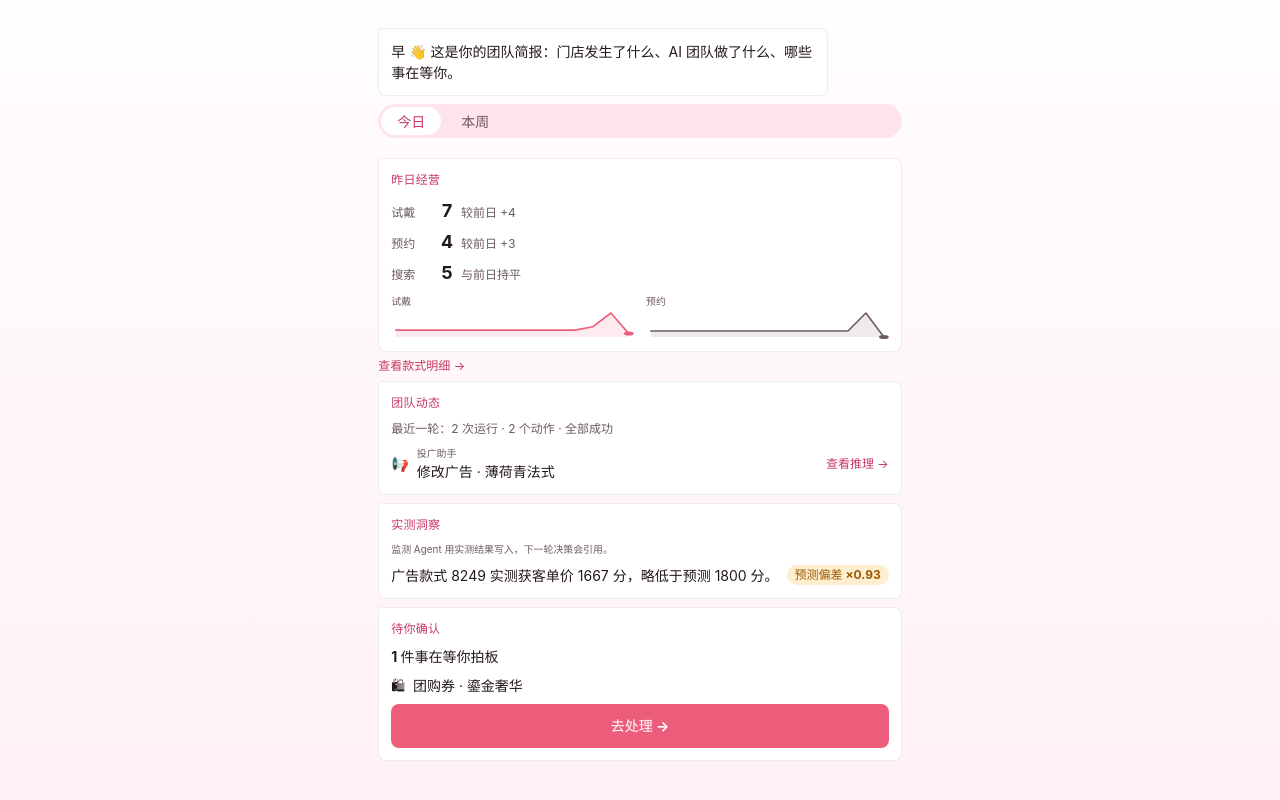
it: OpsBotThread team debrief › toggles 今日/本周: week view swaps 昨日经营 for 本周经营 (week totals vs last week)
Expected: the text "昨日经营" is shown, [391,172,440,187]
Step 1. Click the tab "本周" → (475, 121), box [445,107,505,135]
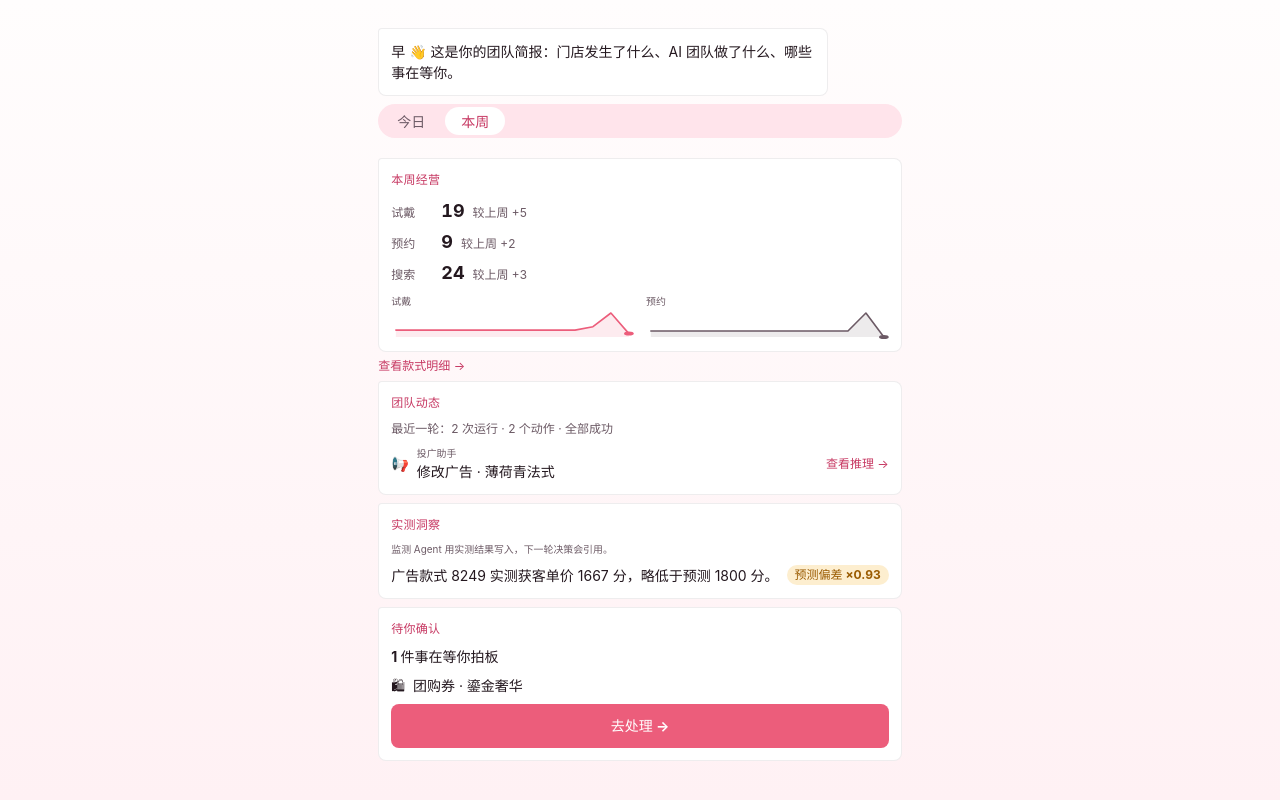
Expected: the text "本周经营" is shown, [391,172,440,187]
Expected: the text "昨日经营" is gone
